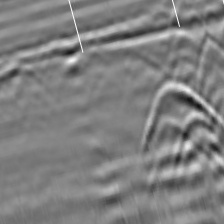Utility: (139, 77, 224, 172)
